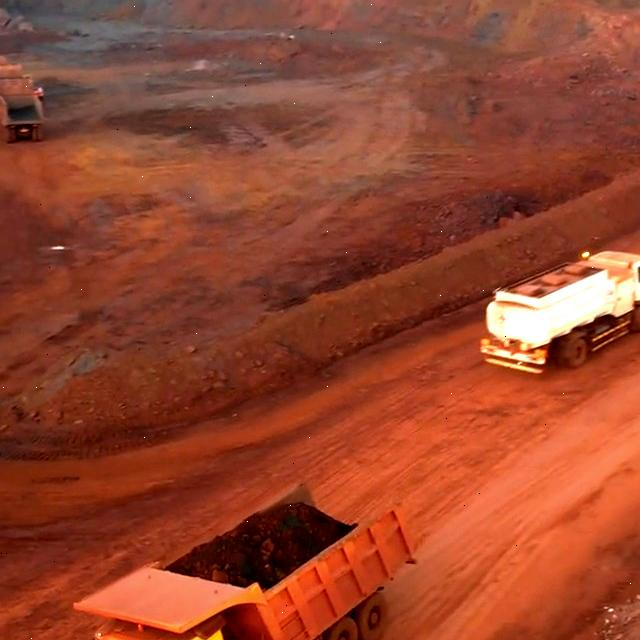Dumper truck: (94, 568, 317, 640), (0, 79, 44, 140)
